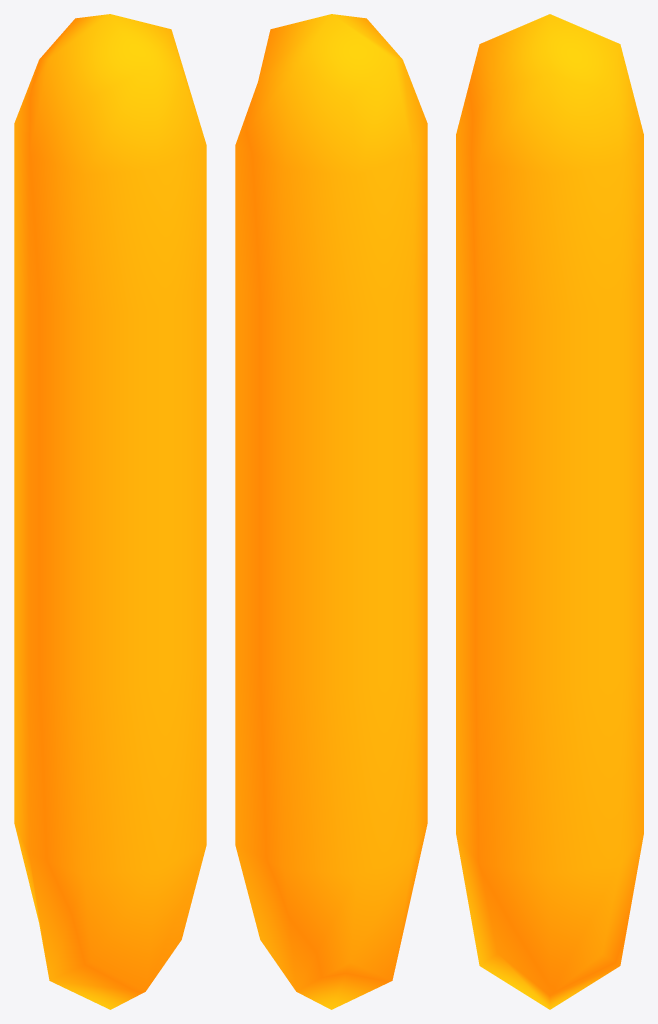
The model's file is pit_lava_line.gltf.
The picture shows the model from 3 angles, left to right: view 1: azimuth 30°, elevation 25°; view 2: azimuth 150°, elevation 25°; view 3: azimuth 270°, elevation 25°; orthographic projection.
Visible parts, largest first — view 1: pit_lava_line; view 2: pit_lava_line; view 3: pit_lava_line.
Boxes of the visible parts, x1=… form: pit_lava_line: x1=14, y1=14, x2=206, y2=1009; pit_lava_line: x1=235, y1=14, x2=427, y2=1009; pit_lava_line: x1=456, y1=14, x2=643, y2=1009.
Bounding box in the file's own units: 1.09 × 6.38 × 1.09.
Materials: 1 (1 with a texture image).
